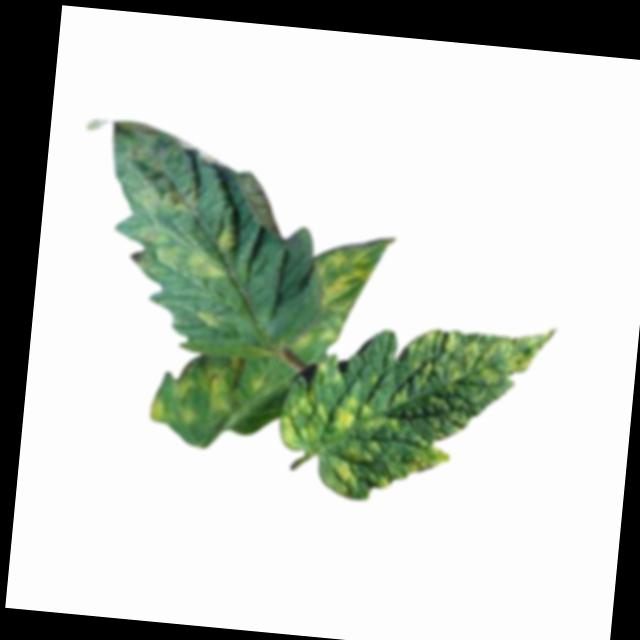Leaf_Mold: (273, 303, 556, 512), (122, 174, 241, 283), (306, 226, 393, 347), (149, 350, 245, 436), (192, 304, 224, 333)
